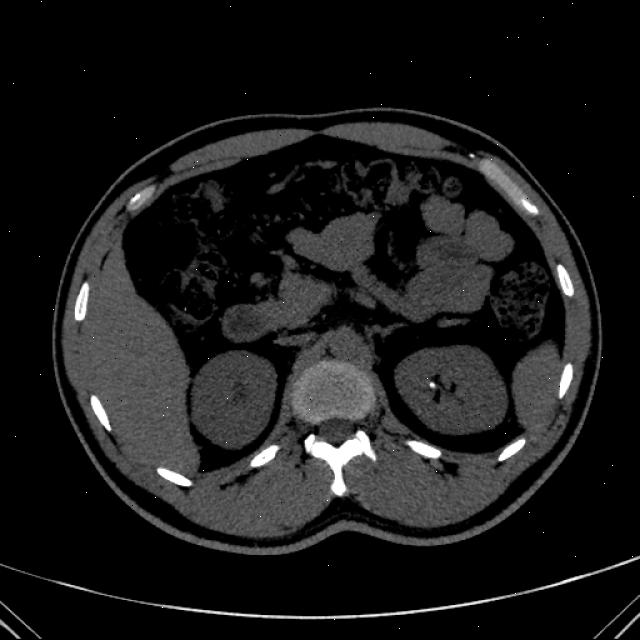kidneystone: (428, 376, 438, 389)
